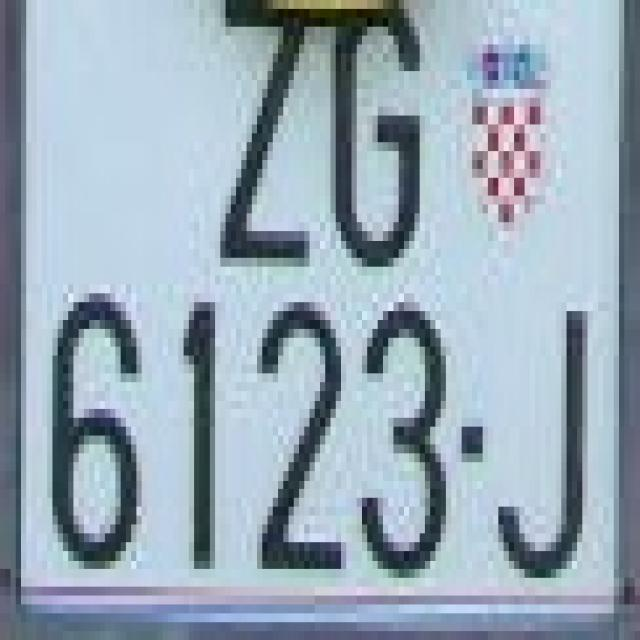1: (173, 284, 215, 569)
2: (247, 293, 341, 578)
3: (362, 284, 446, 586)
6: (42, 276, 142, 578)
G: (320, 0, 446, 267)
Z: (210, 0, 309, 267)
